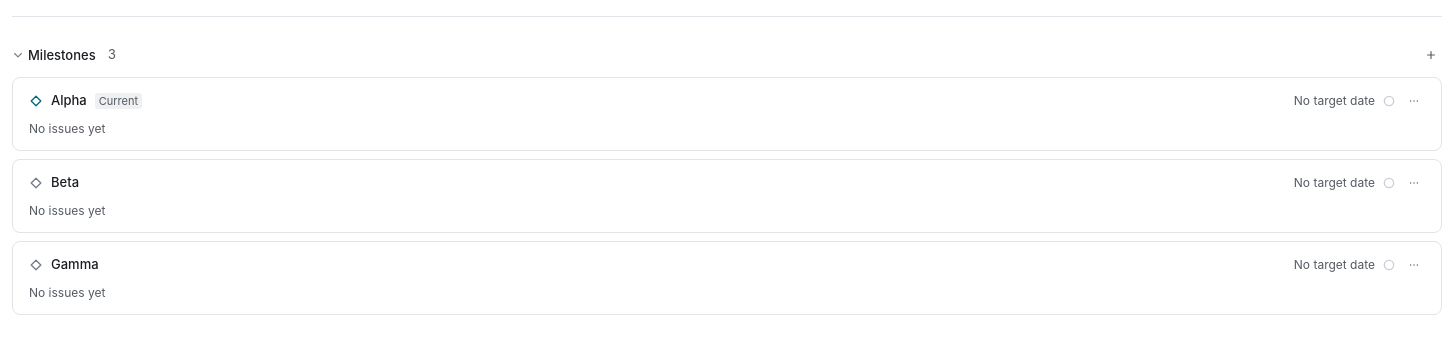
MilestoneSection row menu › offers the same rows from the ⋯ and from the right-click
This screenshot has width=1452, height=353.
Click the button named "Actions for Beta" at (1414,183), box [1403, 172, 1425, 194]
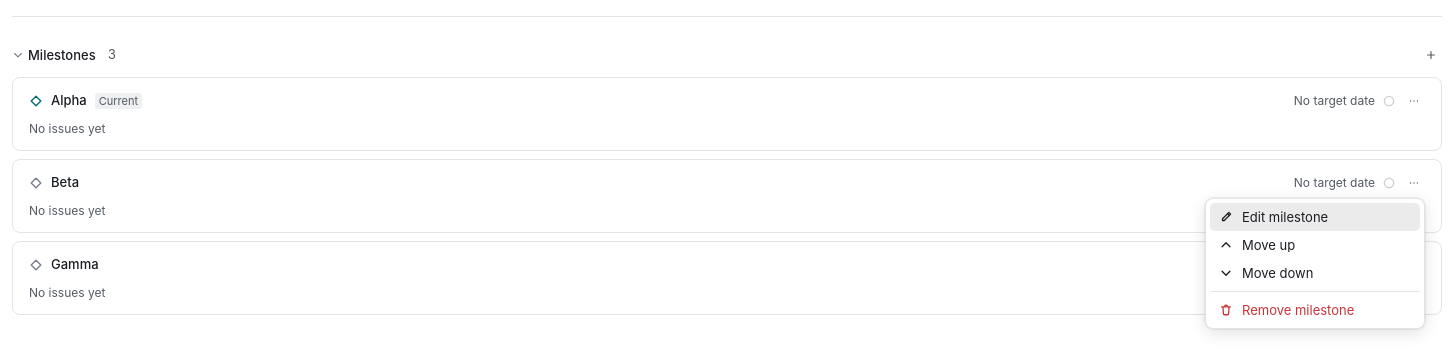
Press Escape
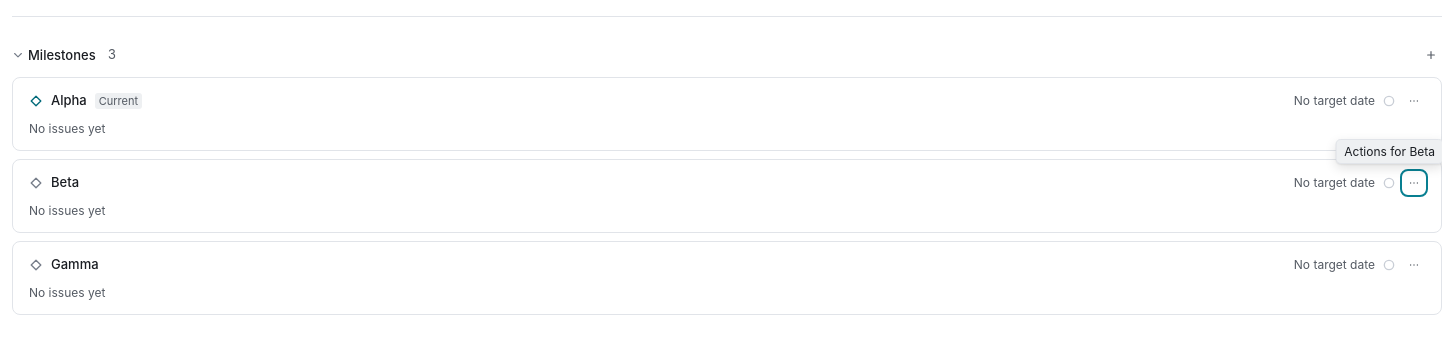
Expected: the menu is gone
